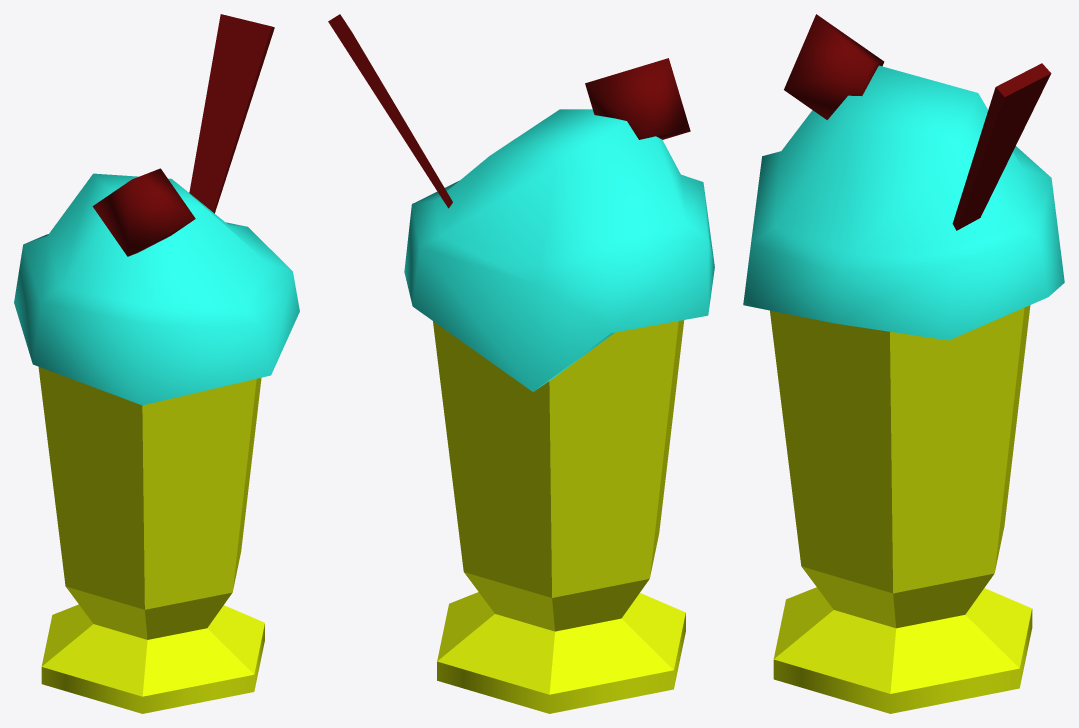
File: Icecup_Yellow.FBX
The picture shows the model from 3 angles, left to right: view 1: azimuth 30°, elevation 25°; view 2: azimuth 150°, elevation 25°; view 3: azimuth 270°, elevation 25°; orthographic projection. The views are drawn at different scales.
Visible parts, largest first — view 1: Icecup_Yellow; view 2: Icecup_Yellow; view 3: Icecup_Yellow.
Part boxes in pixels (box(x1,y1,x2,y2)): Icecup_Yellow: box(14, 14, 299, 713); Icecup_Yellow: box(328, 14, 714, 713); Icecup_Yellow: box(743, 14, 1064, 713).
Bounding box in the file's own units: 100 × 188 × 82.75.
